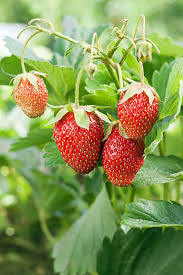ripe: (52, 100, 105, 183), (114, 73, 162, 140), (104, 123, 148, 188)
unripe: (11, 69, 49, 123)
